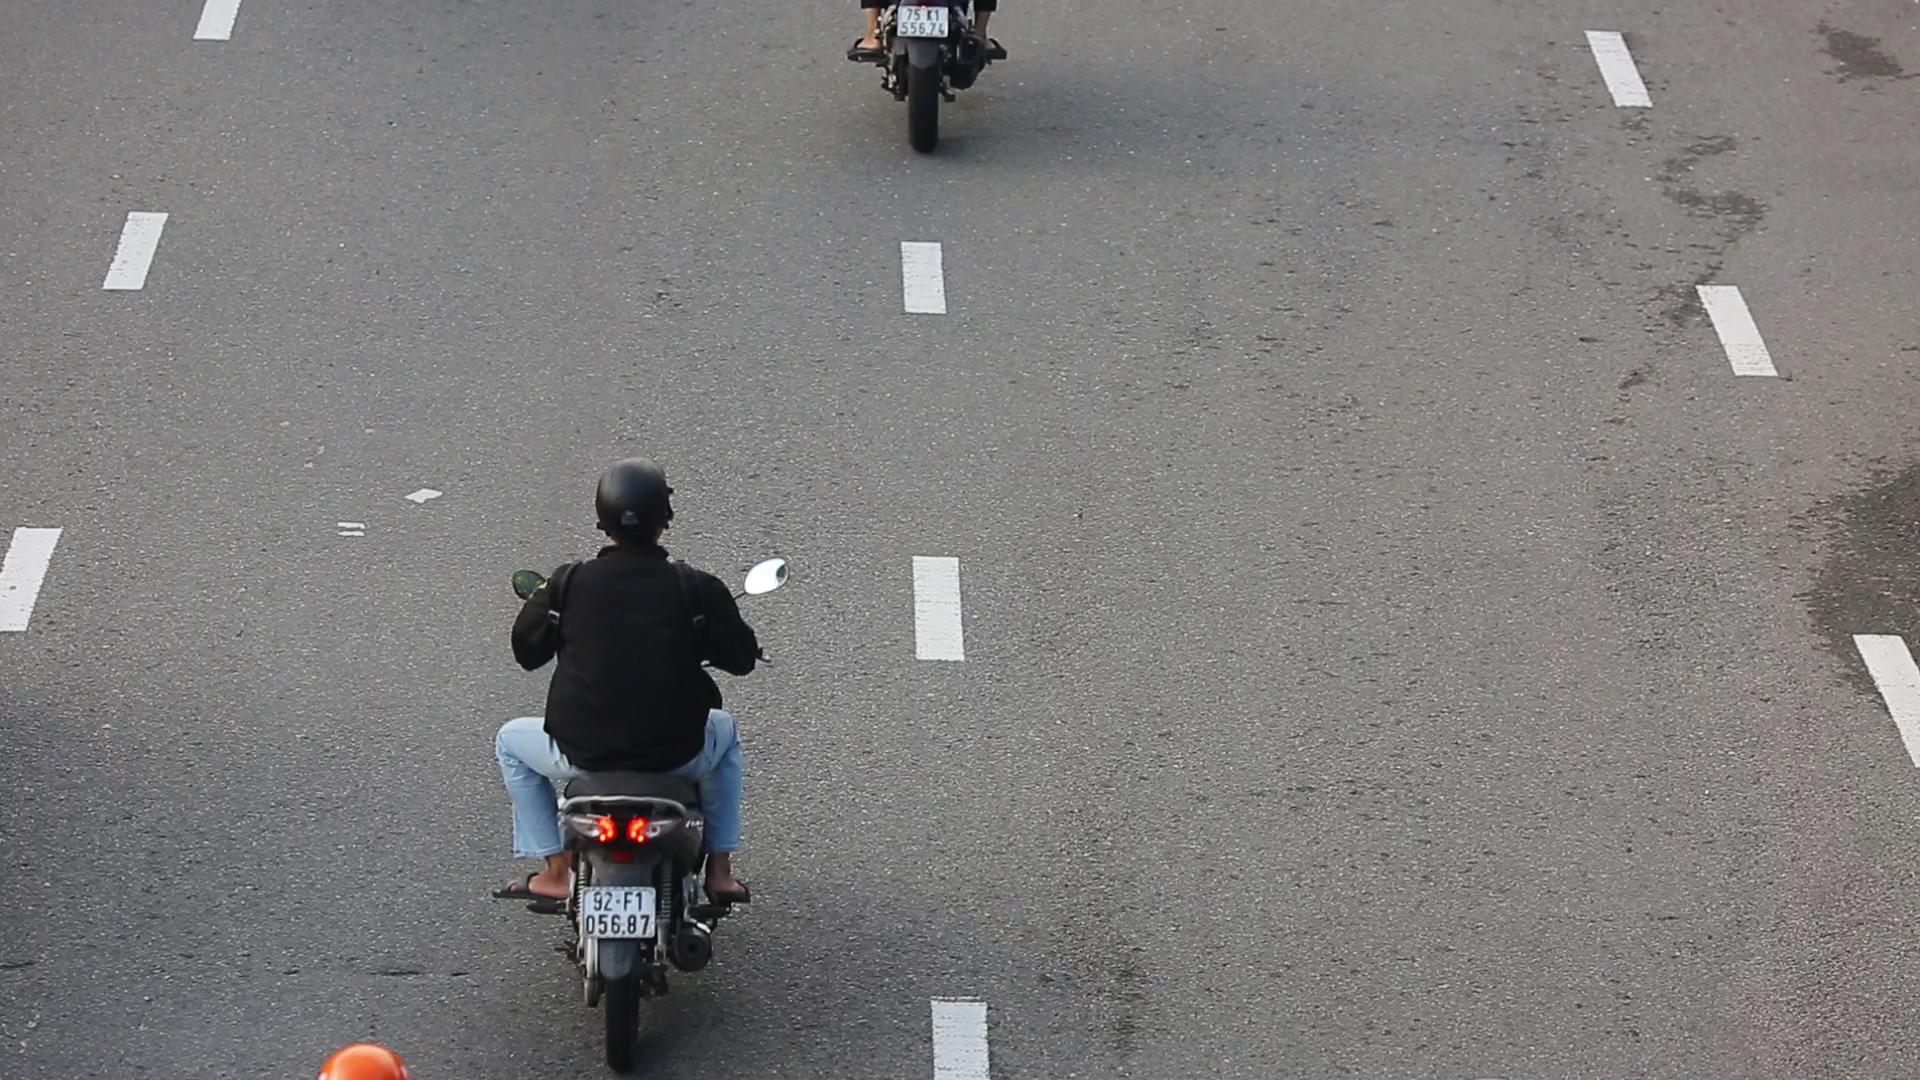motobike: (491, 458, 791, 1080)
